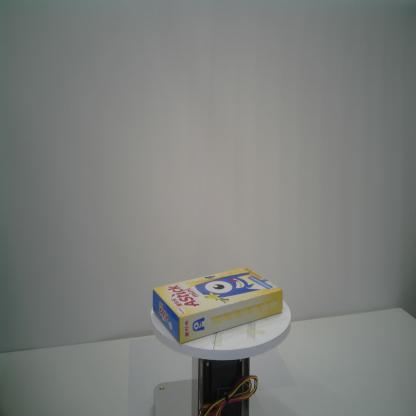Dessert: (149, 264, 285, 346)
